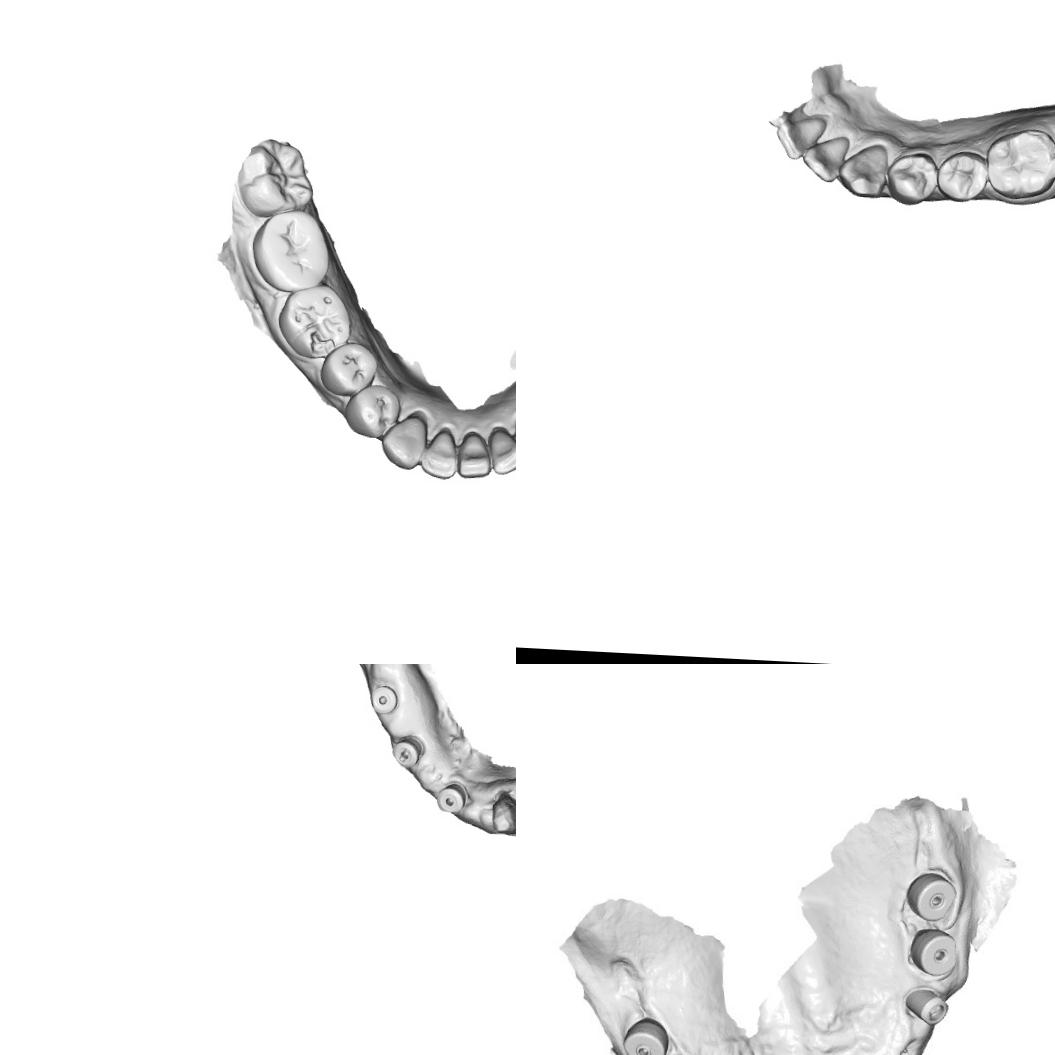canine: (379, 412, 432, 472), (836, 140, 890, 198)
crown: (480, 789, 516, 841)
implant: (903, 870, 958, 922), (907, 926, 958, 978), (902, 984, 949, 1026), (620, 1015, 669, 1055), (433, 779, 468, 816), (366, 682, 400, 716)
implant_minus: (389, 733, 425, 772)
incisor: (774, 112, 828, 162), (800, 132, 850, 184), (419, 425, 460, 481), (455, 430, 494, 480), (486, 425, 516, 476)
molar: (249, 206, 332, 294), (234, 136, 316, 220), (274, 280, 355, 361), (984, 125, 1055, 201)
premolar: (318, 338, 380, 398), (341, 381, 401, 440), (884, 150, 938, 206), (934, 149, 988, 203)
